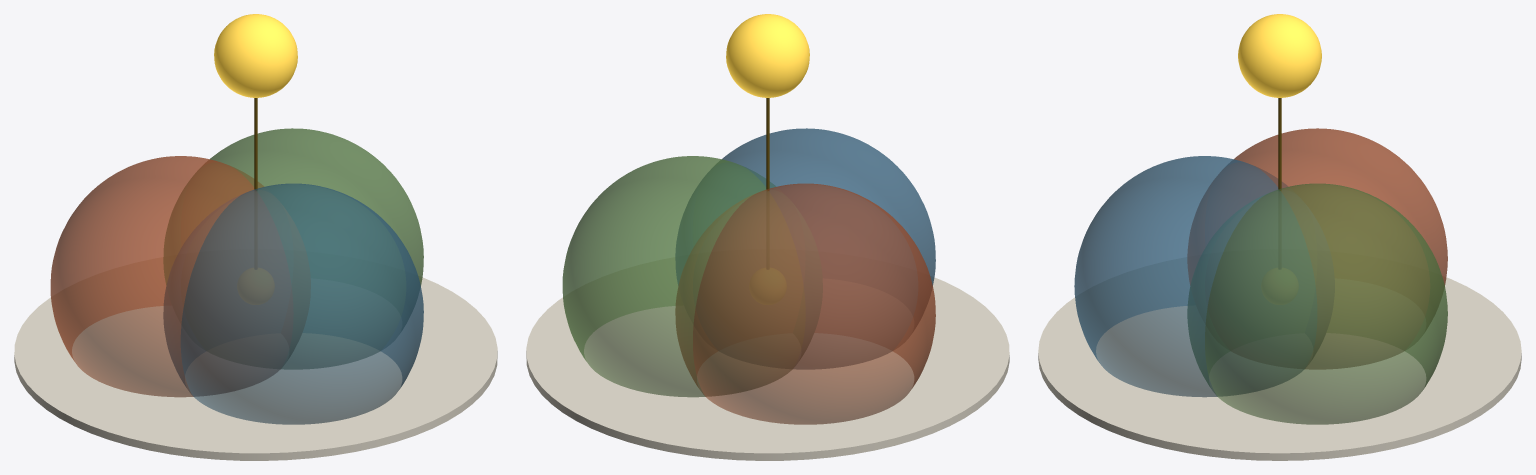
Rendered from program-product-project.glb.
3 views of the same model, side by side, from view 1: azimuth 30°, elevation 25°; view 2: azimuth 150°, elevation 25°; view 3: azimuth 270°, elevation 25° (orthographic).
Visible parts, largest first — view 1: base_plinth, program_sphere, product_sphere, project_sphere, alignment_core; view 2: base_plinth, product_sphere, project_sphere, program_sphere, alignment_core; view 3: base_plinth, project_sphere, program_sphere, product_sphere, alignment_core.
Boxes of the visible parts, x1,y1,x2,y2 form: base_plinth: (14,257,497,460); program_sphere: (163,183,423,424); product_sphere: (50,156,310,397); project_sphere: (163,128,423,369); alignment_core: (214,14,297,97); base_plinth: (526,257,1009,460); product_sphere: (675,183,935,424); project_sphere: (562,156,822,397); program_sphere: (675,128,935,369); alignment_core: (726,14,809,97); base_plinth: (1038,257,1521,460); project_sphere: (1187,183,1447,424); program_sphere: (1074,156,1334,397); product_sphere: (1187,128,1447,369); alignment_core: (1238,14,1321,97).
Size of the model in its own units: 2.3 by 2.03 by 2.3.
